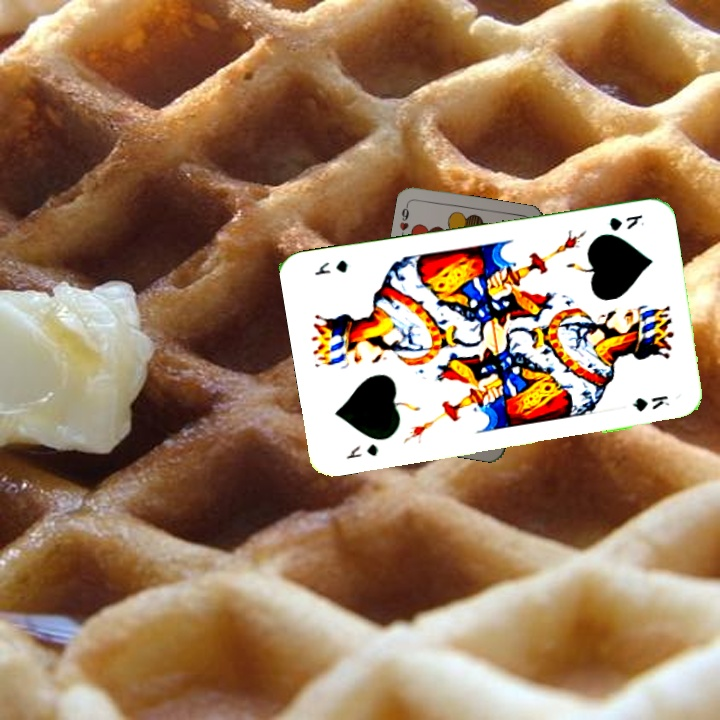GK: (605, 210, 645, 234), (342, 439, 381, 462)
H9: (395, 199, 412, 240)
